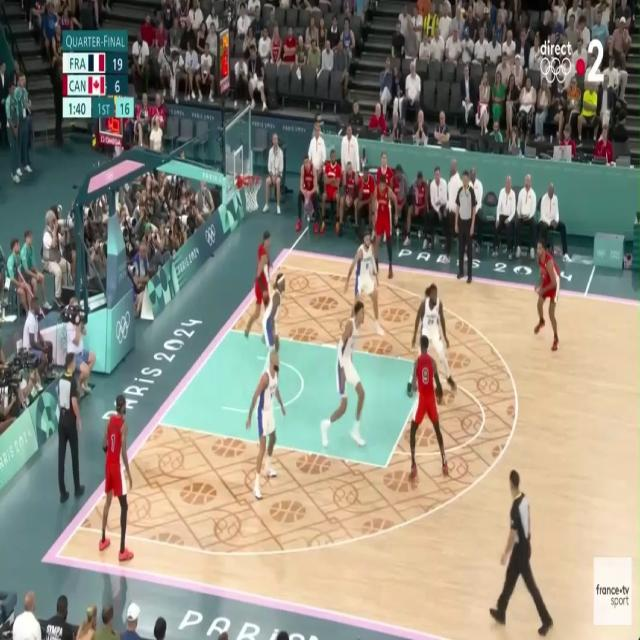ball_handler: (406, 336, 445, 479)
